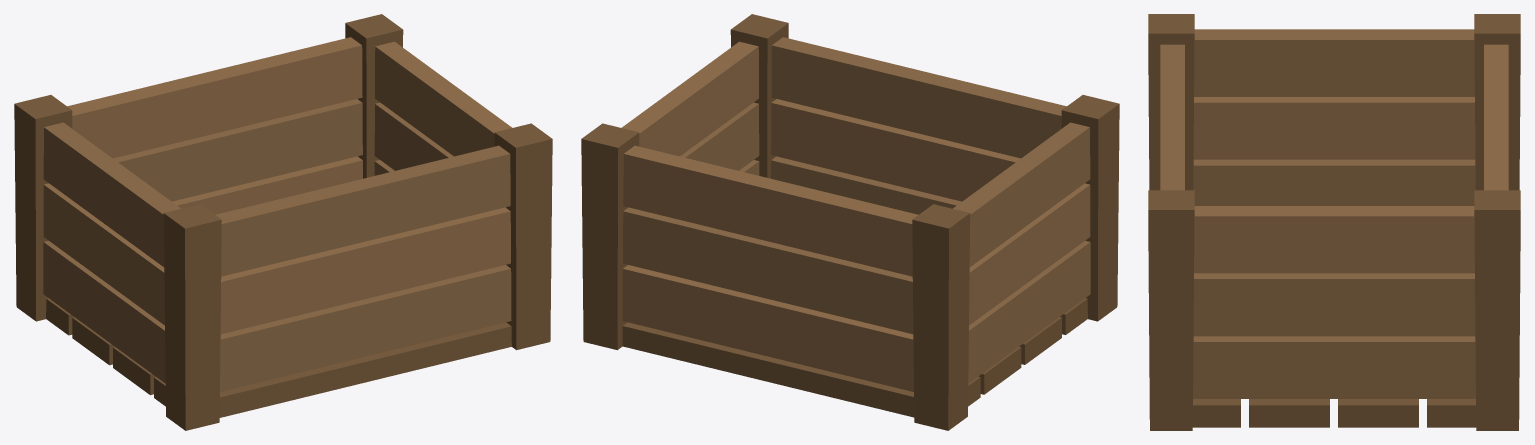
Rendered from Mesh_Props_Box_01.FBX.
3 renders of one model, left to right at view 1: azimuth 30°, elevation 25°; view 2: azimuth 150°, elevation 25°; view 3: azimuth 270°, elevation 25°, orthographic. The views are drawn at different scales.
Parts seen in each view (by area): view 1: Mesh_Props_Box_01; view 2: Mesh_Props_Box_01; view 3: Mesh_Props_Box_01.
Boxes of the visible parts, <box> form: Mesh_Props_Box_01: <box>14,14,552,430</box>; Mesh_Props_Box_01: <box>581,14,1119,430</box>; Mesh_Props_Box_01: <box>1148,14,1520,430</box>.
Size of what is drawn, in the model's own units: 66.6 by 53.55 by 35.18.
